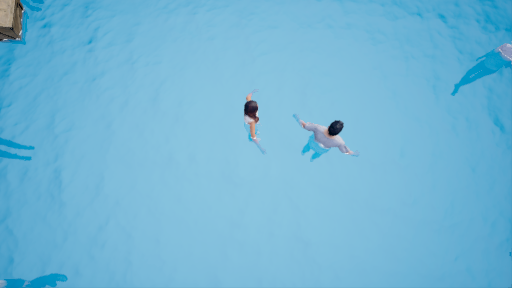person: (296, 108, 360, 168), (238, 88, 271, 159)
